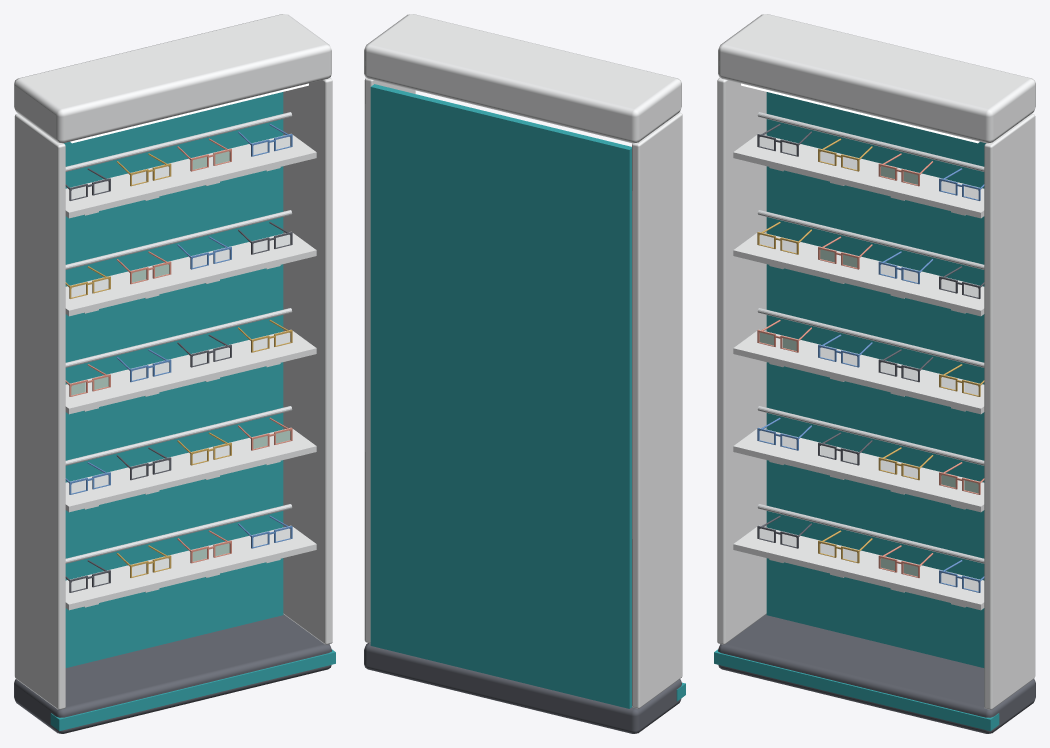
3 renders of one model, left to right at view 1: azimuth 30°, elevation 25°; view 2: azimuth 150°, elevation 25°; view 3: azimuth 330°, elevation 25°, orthographic.
Visible parts, largest first — view 1: frame-display-bay; view 2: frame-display-bay; view 3: frame-display-bay.
Boxes of the visible parts, left/top/right/bottom form: frame-display-bay: left=14, top=14, right=335, bottom=733; frame-display-bay: left=364, top=14, right=685, bottom=733; frame-display-bay: left=714, top=14, right=1035, bottom=733.
Bounding box in the file's own units: 1 × 2.17 × 0.3055.
